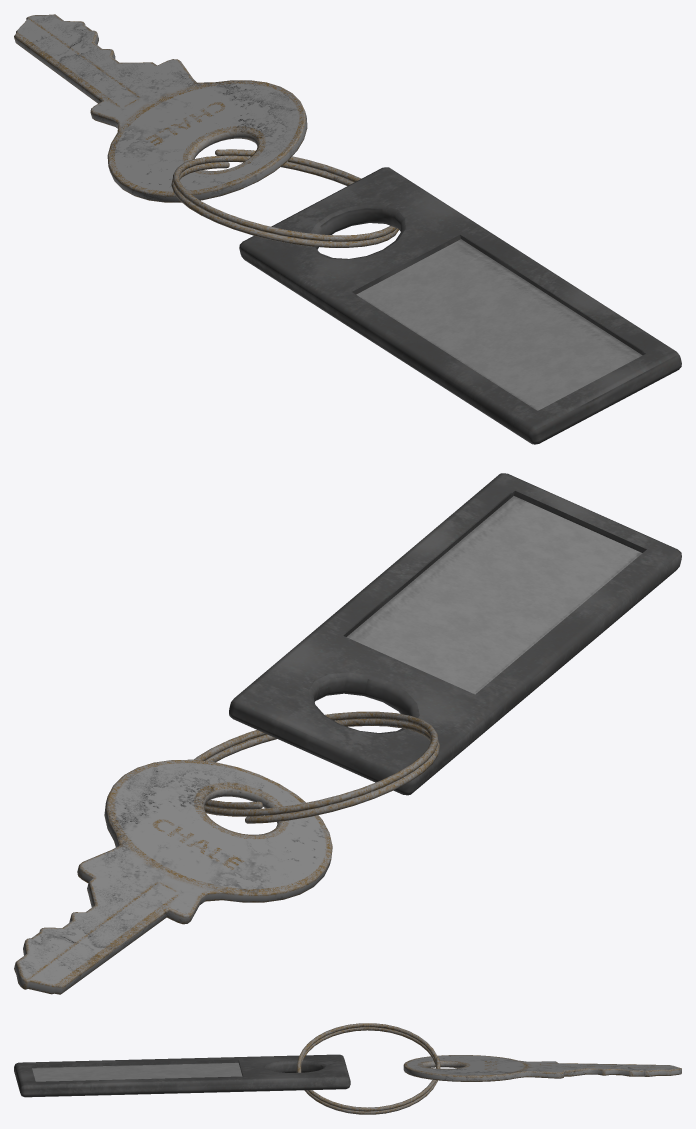
The model's file is key.fbx.
3 renders of one model, top to bottom at view 1: azimuth 30°, elevation 25°; view 2: azimuth 150°, elevation 25°; view 3: azimuth 270°, elevation 25°, orthographic. The views are drawn at different scales.
Visible parts, largest first — view 1: SM_KeyTag, SM_Key, SM_Ring; view 2: SM_KeyTag, SM_Key, SM_Ring; view 3: SM_KeyTag, SM_Key, SM_Ring.
Part boxes in pixels (box(x1,y1,x2,y2)): SM_KeyTag: box(239, 167, 681, 444); SM_Key: box(14, 14, 307, 202); SM_Ring: box(171, 149, 398, 247); SM_KeyTag: box(229, 473, 681, 795); SM_Key: box(14, 759, 332, 994); SM_Ring: box(194, 711, 439, 823); SM_KeyTag: box(14, 1054, 350, 1097); SM_Key: box(403, 1055, 681, 1081); SM_Ring: box(296, 1023, 440, 1114).
Size of the model in its own units: 1159 by 295 by 5076.
